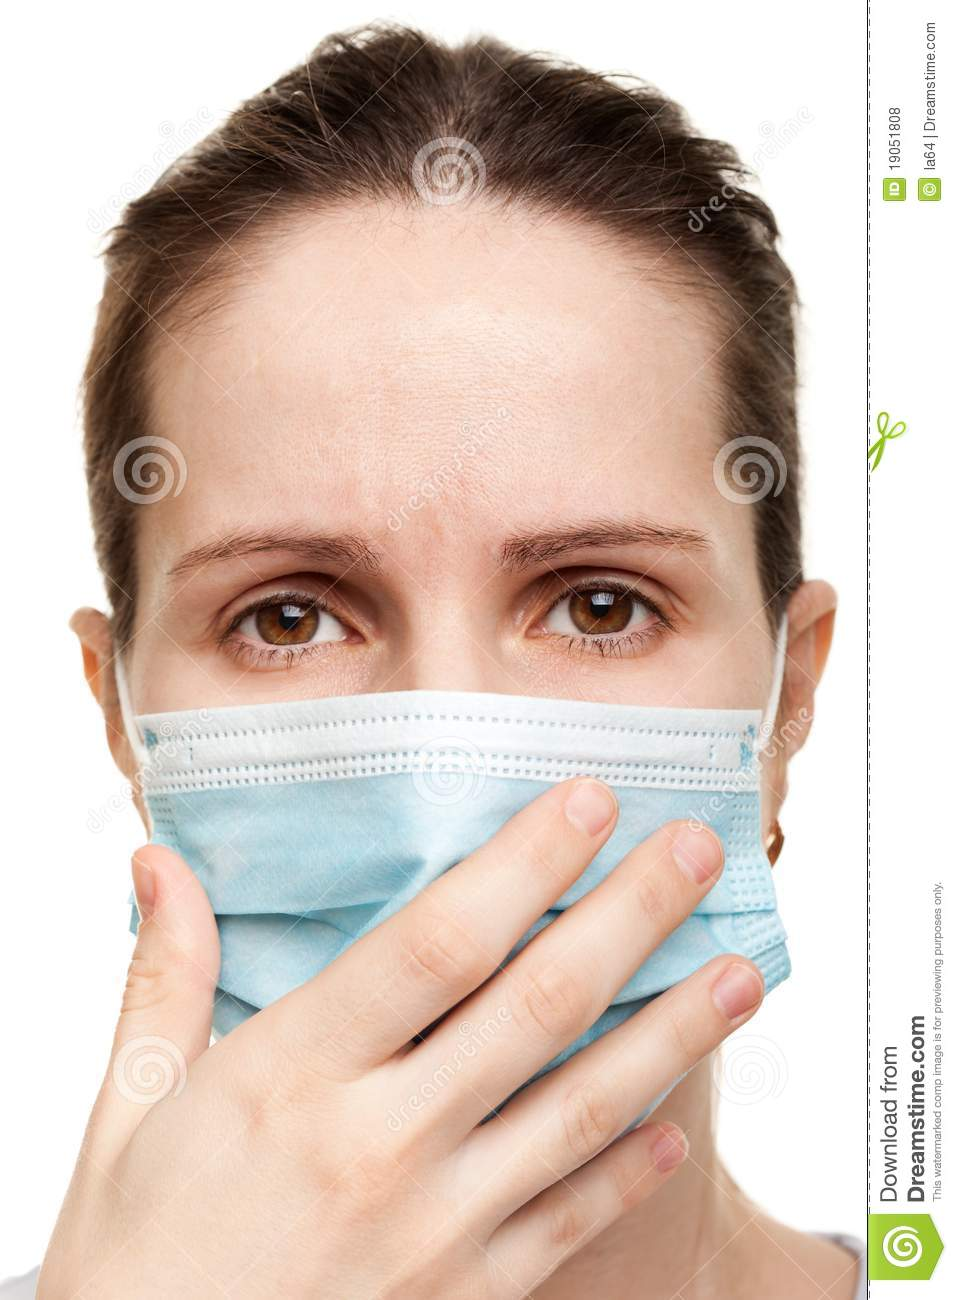mask: (124, 696, 789, 1135)
